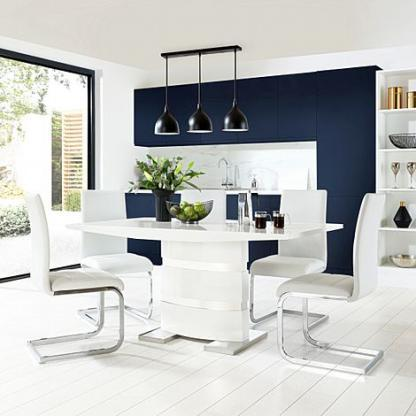chair: (293, 197, 398, 381), (27, 188, 127, 366), (249, 184, 335, 323), (80, 186, 152, 321)
light: (221, 36, 249, 152), (152, 55, 185, 144), (186, 45, 214, 145)
table: (83, 225, 331, 353)
